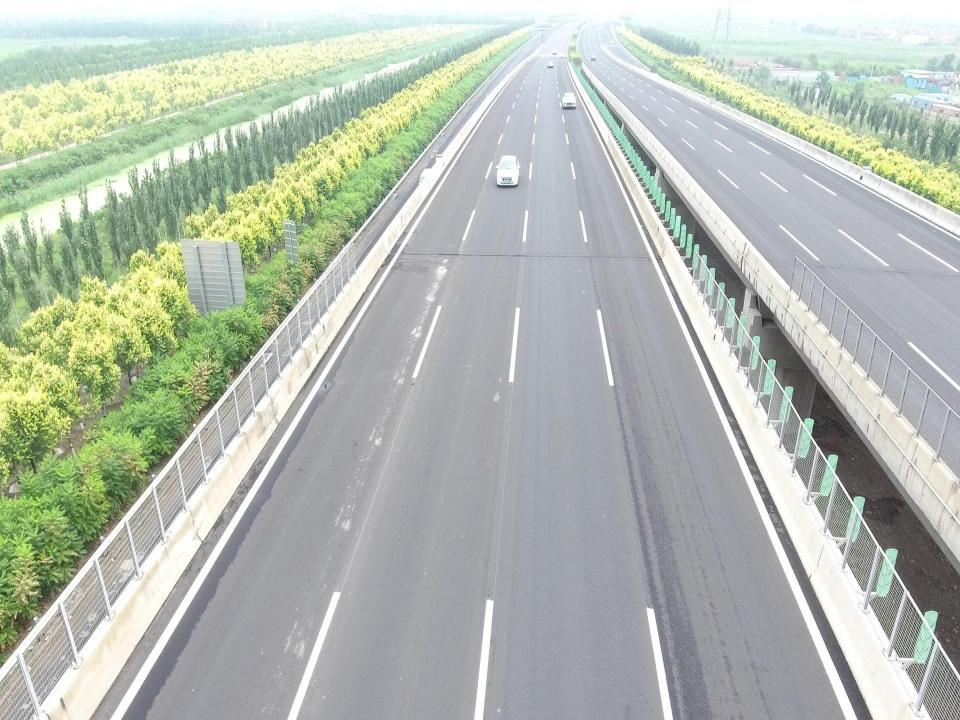car: (495, 155, 520, 187), (562, 92, 577, 109), (547, 61, 553, 67), (558, 52, 564, 58), (590, 54, 595, 60), (552, 49, 556, 54), (610, 39, 614, 44), (593, 22, 595, 26)
